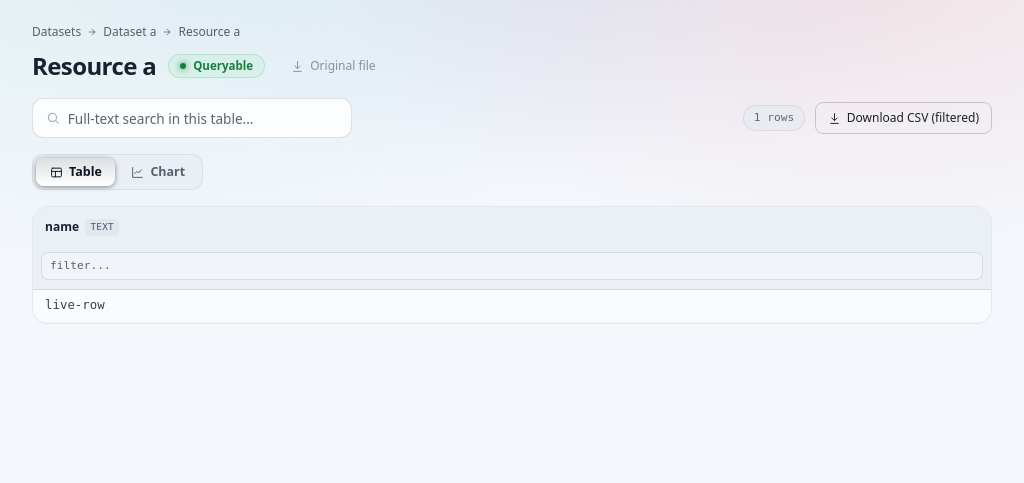
Test: ResourcePage navigation › live rows never offer a CSV export with incompatible pending filters
Check: the text "live-row" is shown, box left=33, top=290, right=991, bottom=323
Check: the link "Download CSV (filtered)" is shown, box left=815, top=102, right=992, bottom=134
Type ">2" into the field labelled "filter...". click: (512, 266)
box: left=41, top=252, right=983, bottom=280
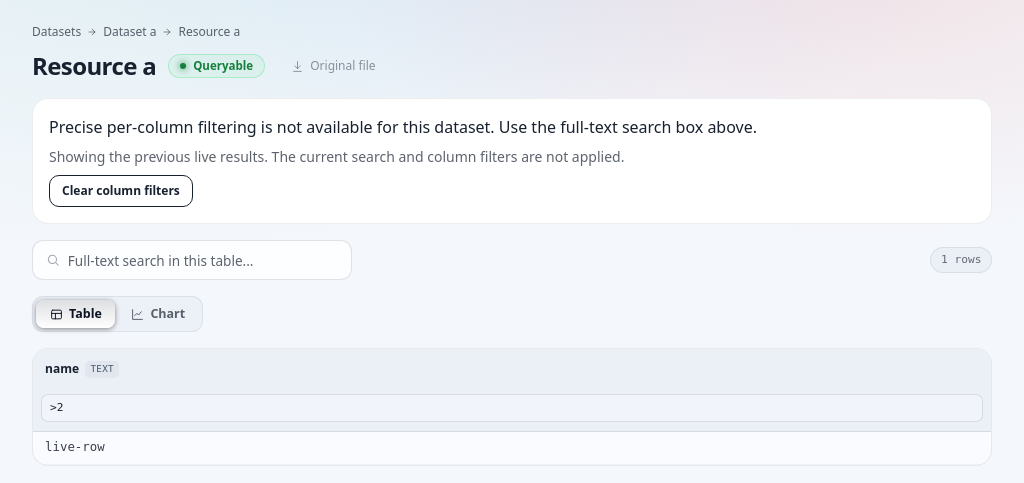
Check: the text "live-row" is shown, box left=33, top=432, right=991, bottom=465
Check: the link "Download CSV (filtered)" is gone
Check: the text "Showing the previous live results. The current search and column filters are not applied." is shown, box left=49, top=147, right=624, bottom=166
